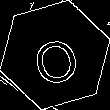O_N: (27, 25, 83, 85)
